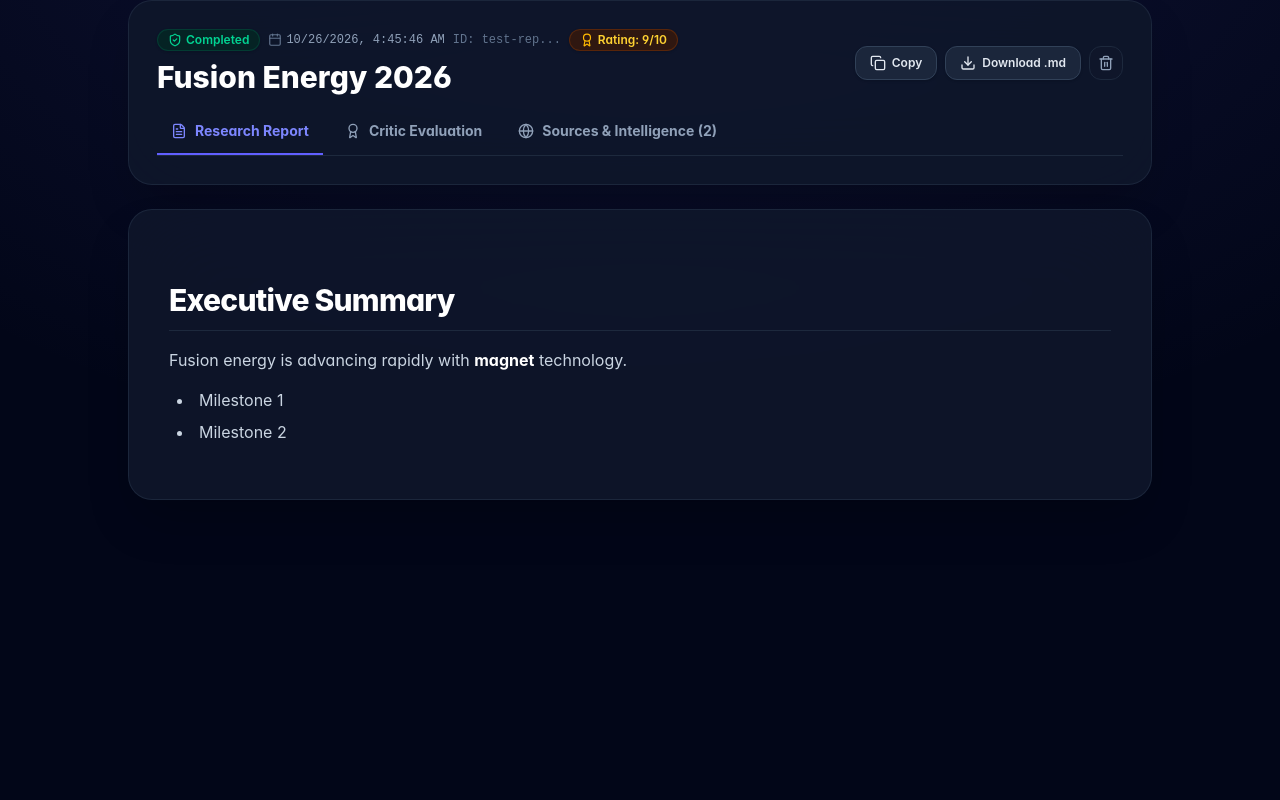
Test: Frontend UI Components › ReportViewer renders markdown content and extracted sources
expect the heading "Fusion Energy 2026" is shown: met, box x1=157 y1=59 x2=452 y2=95
expect the heading "Executive Summary" is shown: met, box x1=169 y1=282 x2=1111 y2=330
# Switch to Critic tab
Click the button "Critic Evaluation" at (414, 138), box x1=331 y1=120 x2=496 y2=154
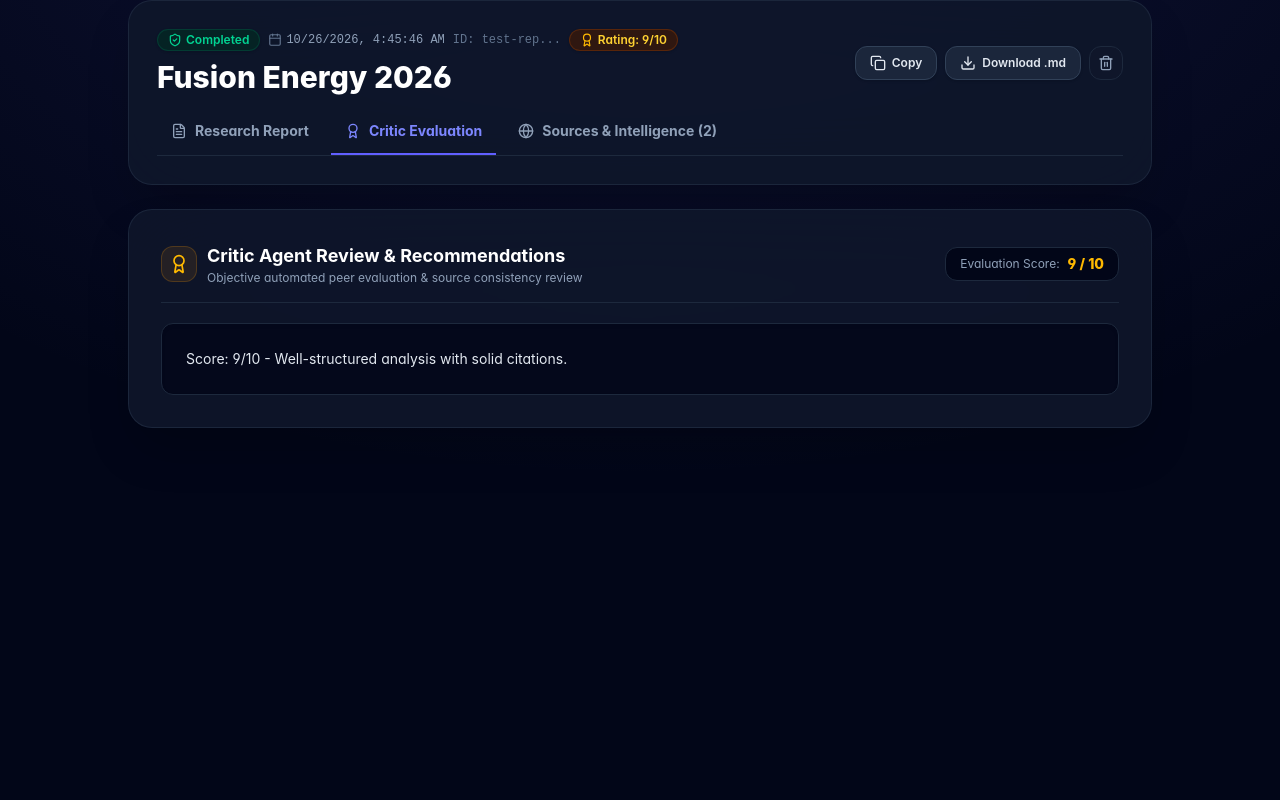
expect the heading "Critic Agent Review & Recommendations" is shown: met, box x1=207 y1=242 x2=582 y2=270
expect the text "Score: 9/10 - Well-structured analysis with solid citations." is shown: met, box x1=161 y1=322 x2=1119 y2=395
# Switch to Sources tab
Click the button "Sources & Intelligence (2)" at (618, 138), box x1=504 y1=120 x2=731 y2=154
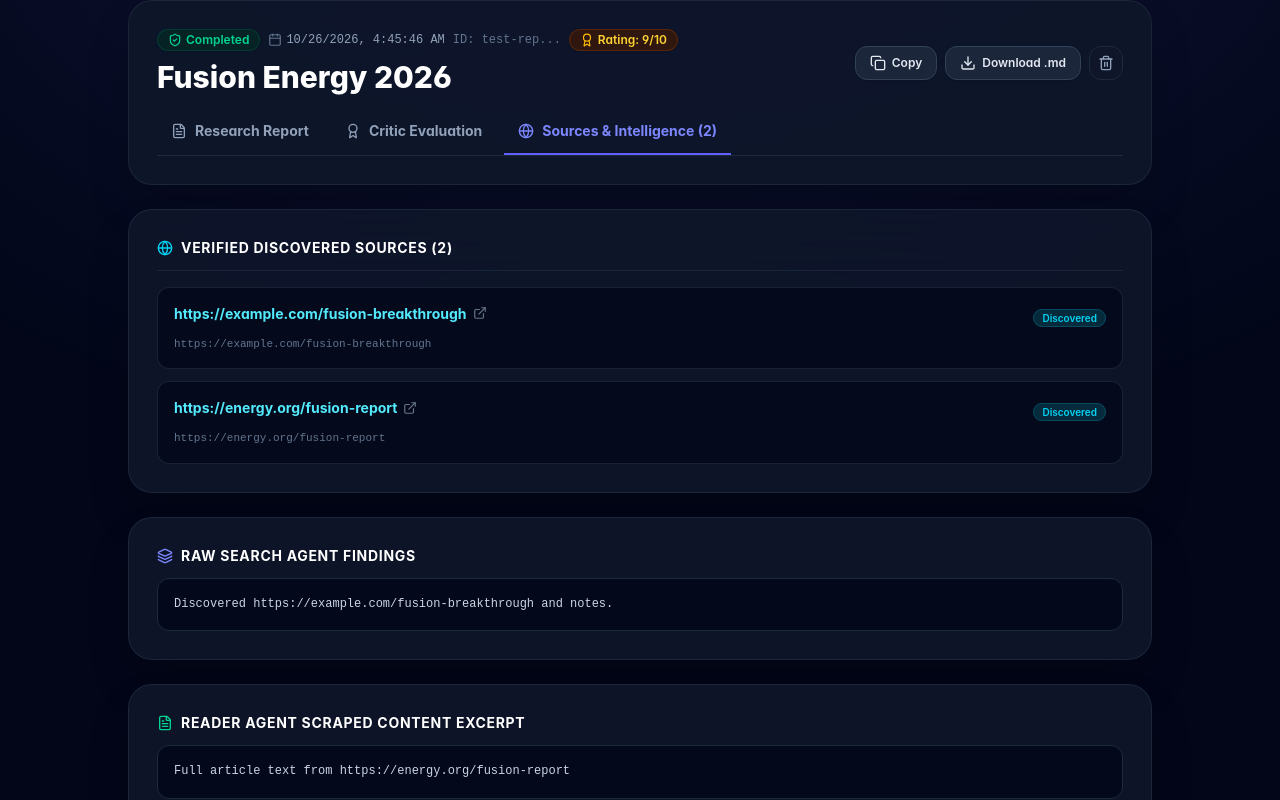
expect the 1st text "https://example.com/fusion-breakthrough" is shown: met, box x1=174 y1=304 x2=466 y2=323
expect the 1st text "https://energy.org/fusion-report" is shown: met, box x1=174 y1=398 x2=397 y2=417
